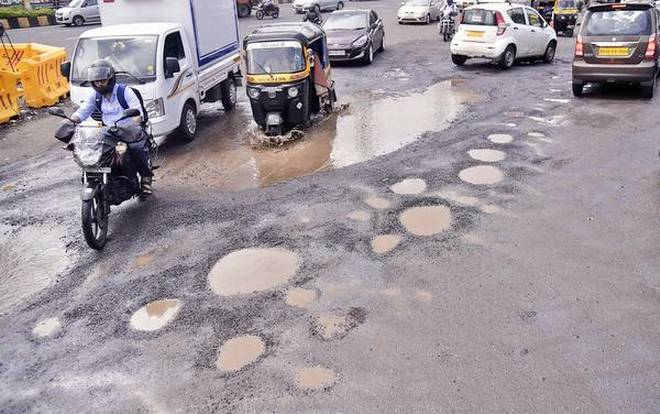pothole: (189, 235, 313, 299), (109, 293, 199, 339), (446, 154, 517, 203), (205, 331, 280, 374), (389, 195, 449, 232), (481, 126, 519, 144)
